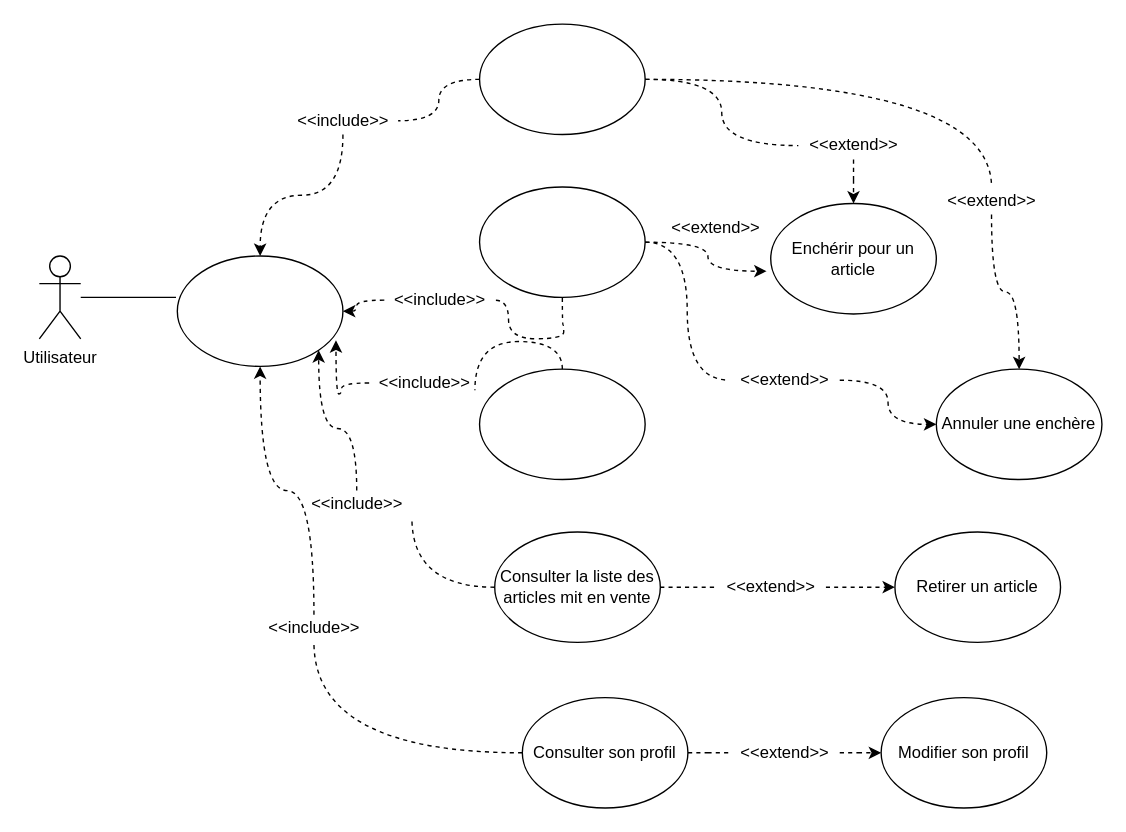
This 1126x832 diagram has some shape labels left out. Each missing label, with the centre of its shape:
"Authentification" goes at (x=259, y=310).
"Chercher un article" goes at (x=561, y=79).
"Consulter la liste des articles enchéries" goes at (x=561, y=241).
"Mettre un article aux enchères" goes at (x=561, y=424).
